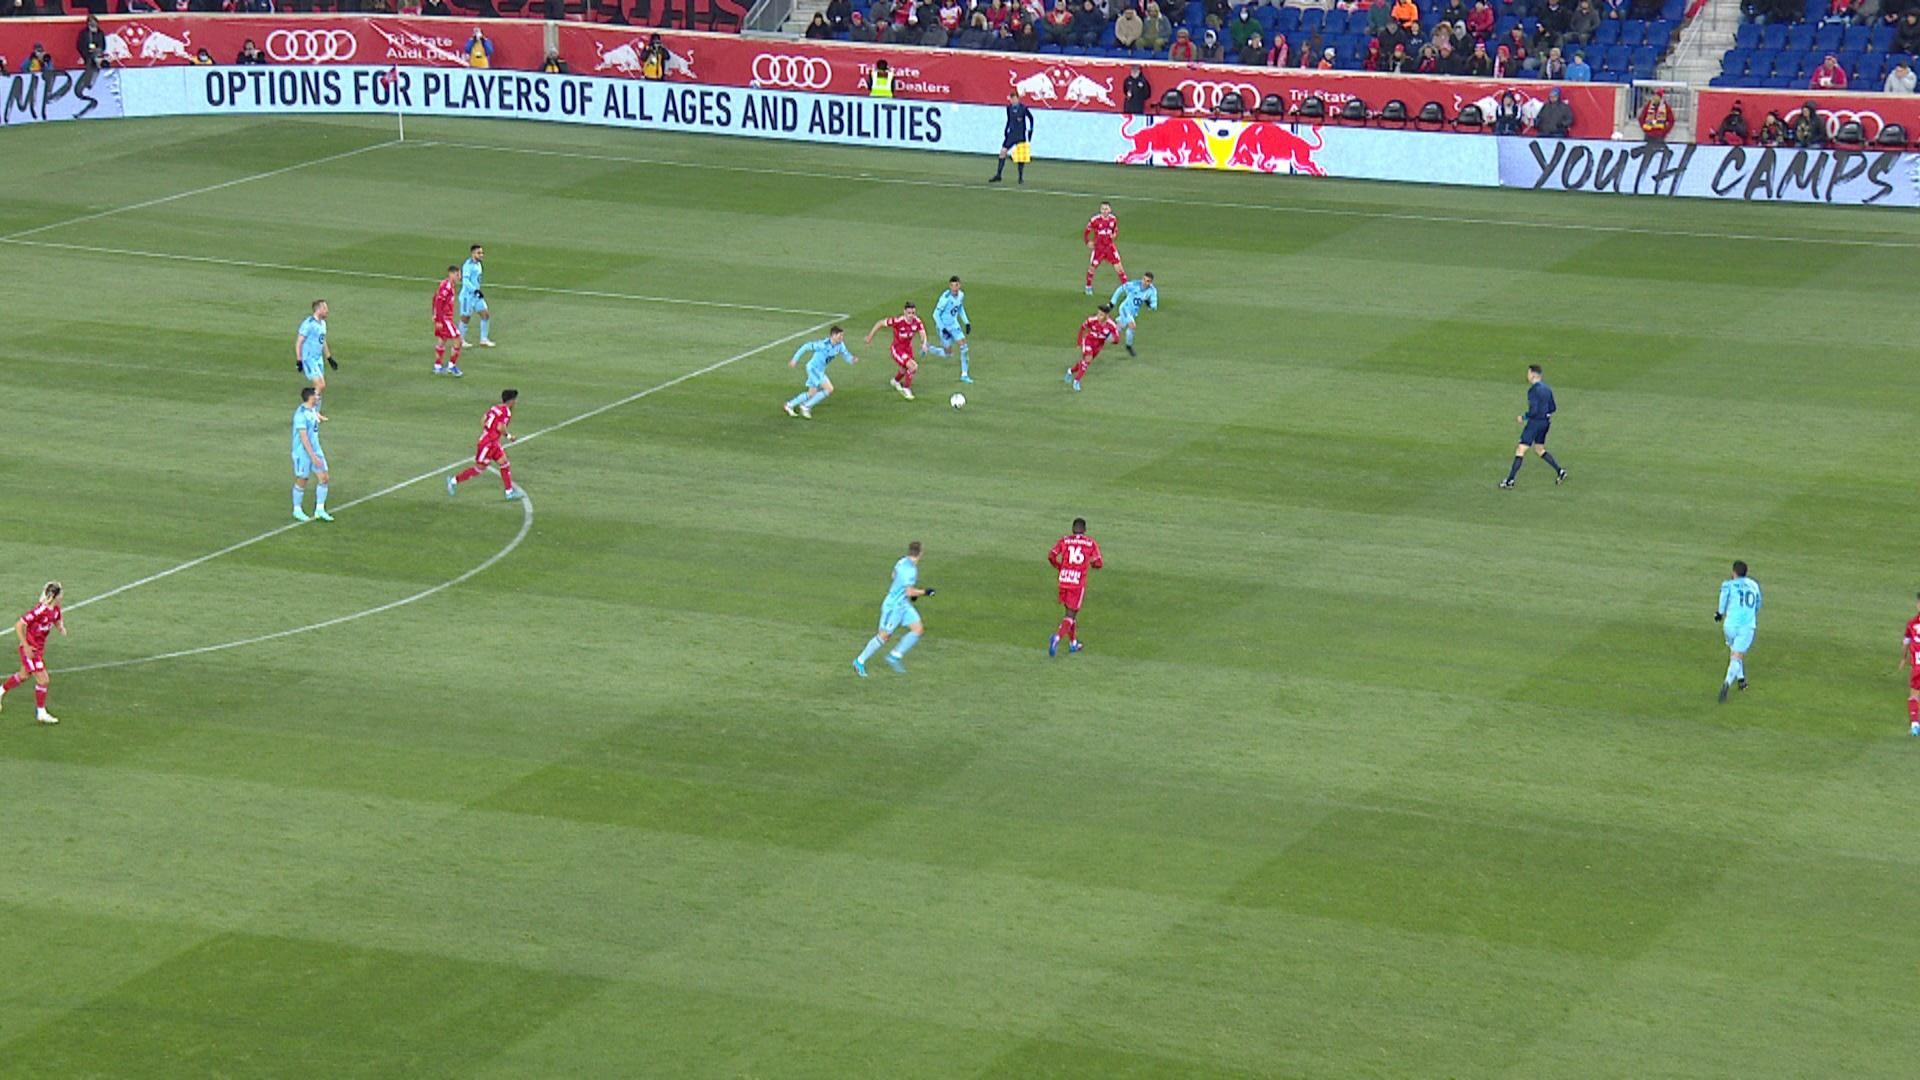football: (949, 393, 967, 409)
